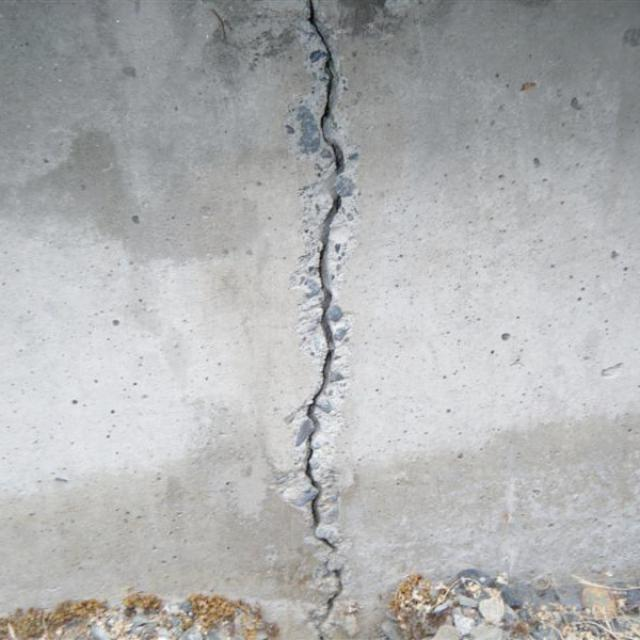Wall_Cracks: (266, 2, 387, 640)
